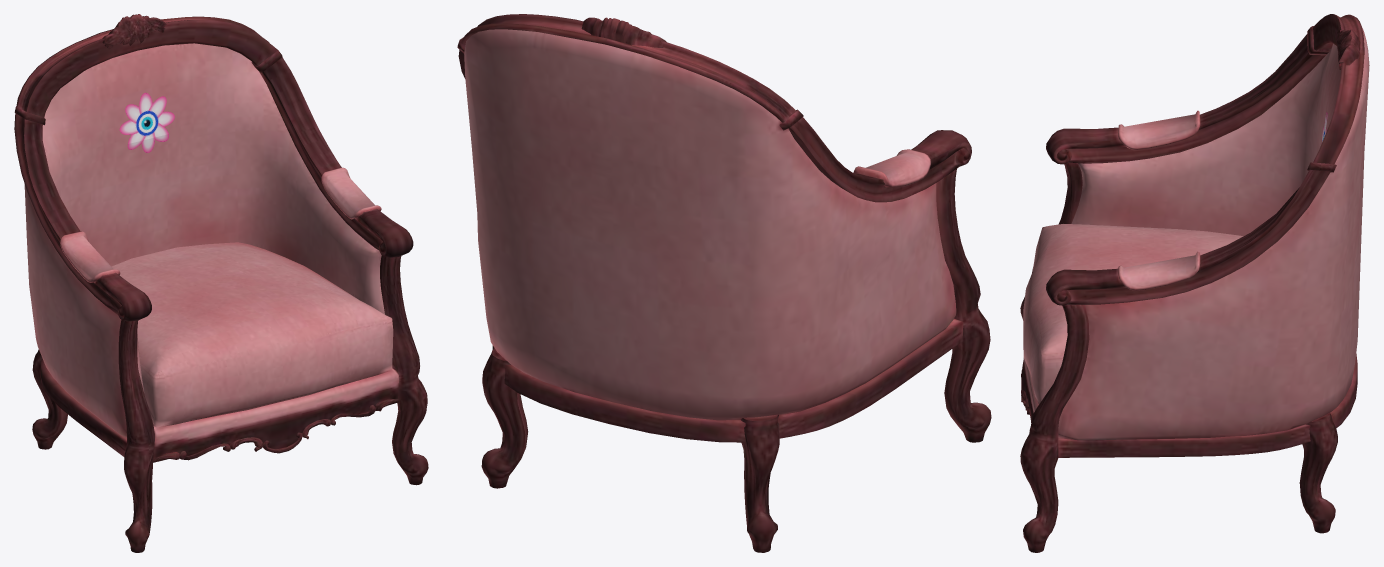
The model's file is nyb_tenen_armchair.glb.
The picture shows the model from 3 angles, left to right: view 1: azimuth 30°, elevation 25°; view 2: azimuth 150°, elevation 25°; view 3: azimuth 270°, elevation 25°; orthographic projection. The views are drawn at different scales.
Visible parts, largest first — view 1: ArmChair_01, stk_eyeflower.png; view 2: ArmChair_01; view 3: ArmChair_01.
Boxes of the visible parts, bbox=[...] form: ArmChair_01: bbox=[14, 14, 428, 552]; stk_eyeflower.png: bbox=[119, 92, 174, 152]; ArmChair_01: bbox=[457, 14, 991, 552]; ArmChair_01: bbox=[1020, 14, 1369, 552].
Bounding box in the file's own units: 0.8484 × 1.07 × 0.7658.
2 materials, 2 textured.
